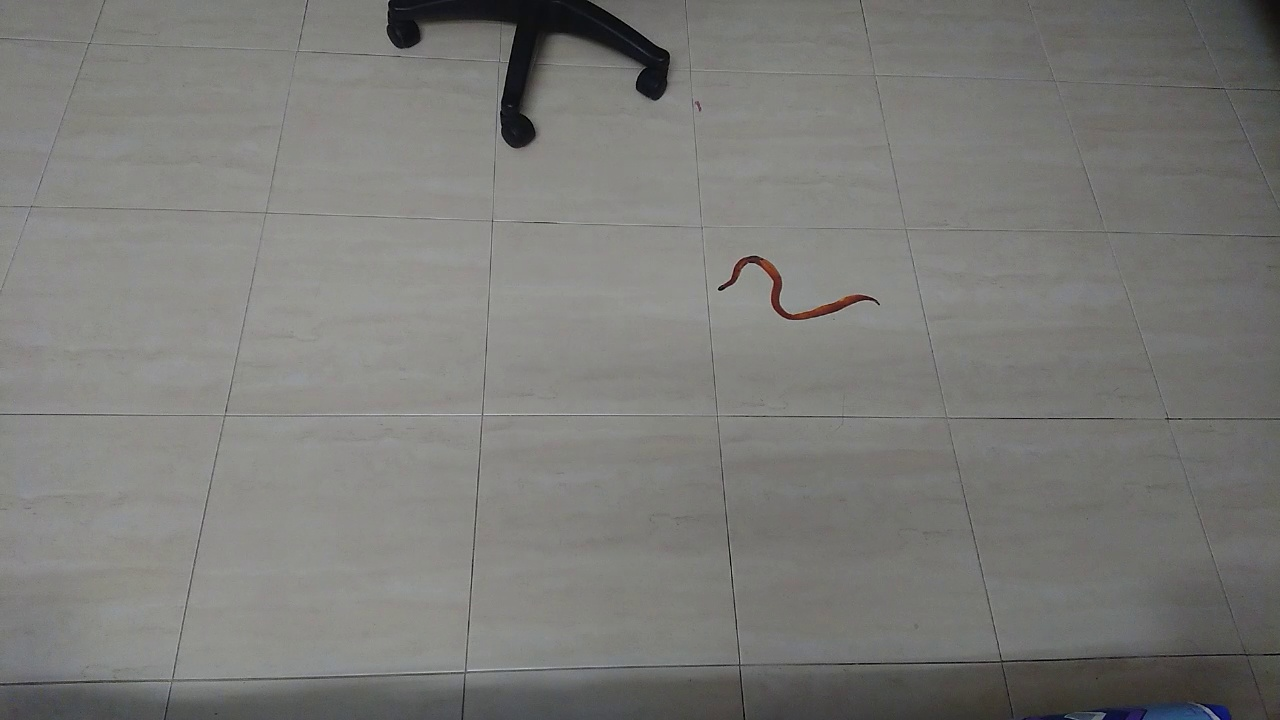snake: (692, 239, 900, 340)
